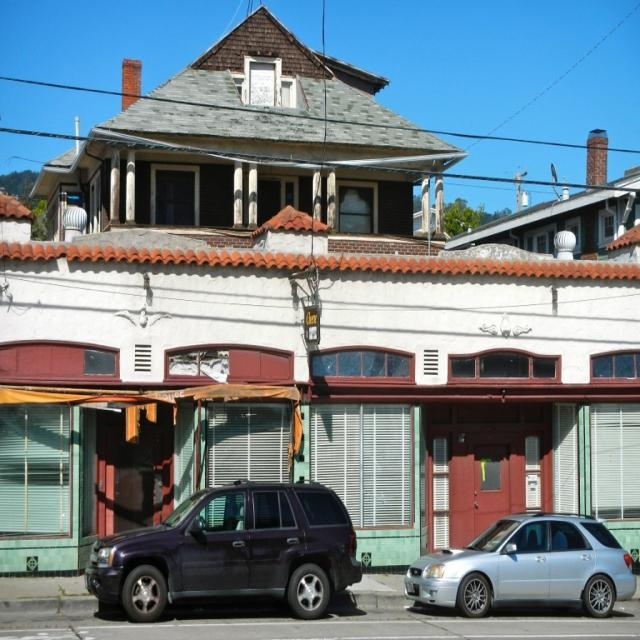car: (82, 477, 360, 618), (400, 510, 637, 618)
